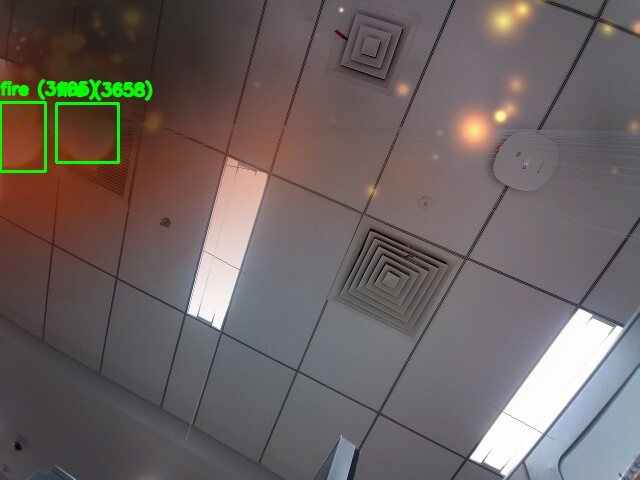fire: (56, 103, 118, 162), (0, 102, 45, 171)
